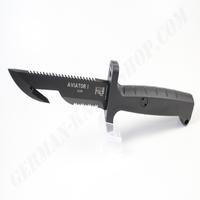knife: (6, 56, 200, 133)
